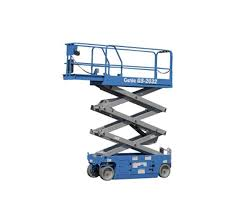Scissor Lift: (62, 42, 174, 181)
